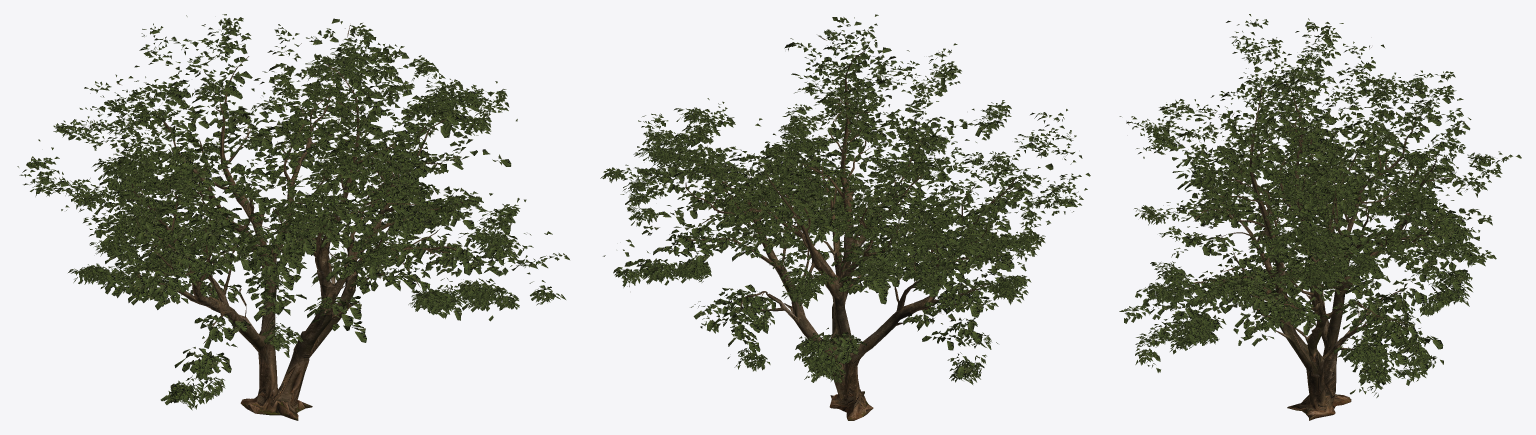
File: tree-2-blue.glb
3 views of the same model, side by side, from view 1: azimuth 30°, elevation 25°; view 2: azimuth 150°, elevation 25°; view 3: azimuth 270°, elevation 25° (orthographic). The views are drawn at different scales.
Visible parts, largest first — view 1: jacaranda_tree_leaves, jacaranda_tree_trunk, jacaranda_tree_branches; view 2: jacaranda_tree_leaves, jacaranda_tree_trunk, jacaranda_tree_branches; view 3: jacaranda_tree_leaves, jacaranda_tree_trunk, jacaranda_tree_branches.
Boxes of the visible parts, x1,y1,x2,y2 form: jacaranda_tree_leaves: (17, 14, 569, 410); jacaranda_tree_trunk: (209, 194, 390, 420); jacaranda_tree_branches: (74, 26, 463, 343); jacaranda_tree_leaves: (600, 14, 1090, 384); jacaranda_tree_trunk: (752, 191, 913, 420); jacaranda_tree_branches: (629, 29, 1044, 339); jacaranda_tree_leaves: (1119, 14, 1521, 397); jacaranda_tree_trunk: (1257, 230, 1386, 420); jacaranda_tree_branches: (1126, 47, 1449, 378).
Bounding box in the file's own units: 5.34 × 4.1 × 4.21.
Materials: 3 (3 with a texture image).
